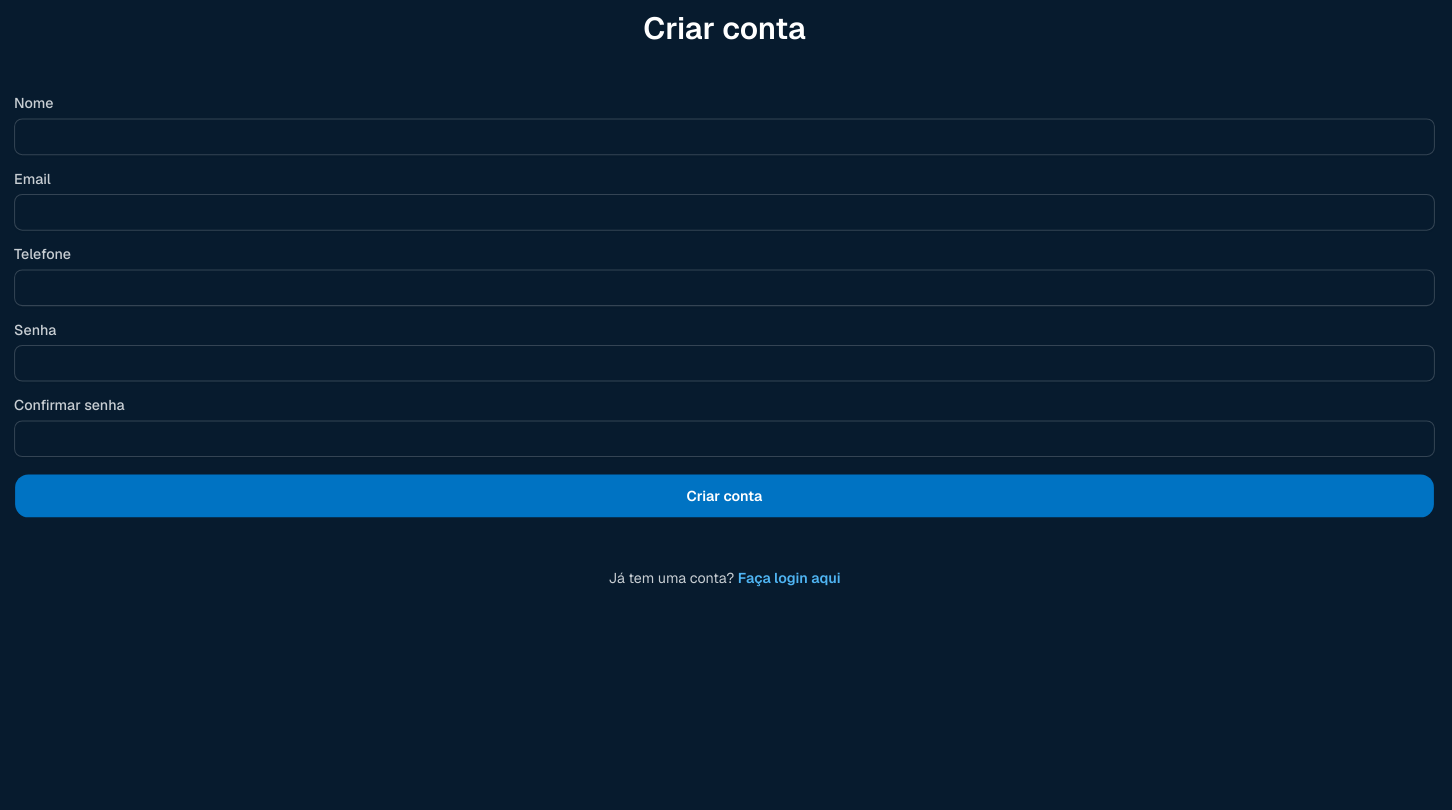
Test case: RegisterPageView › mostra erro quando as senhas são diferentes
This screenshot has width=1452, height=810.
Type "Maria" into the field labelled "Nome". click: (725, 137)
box: [14,118,1435,155]
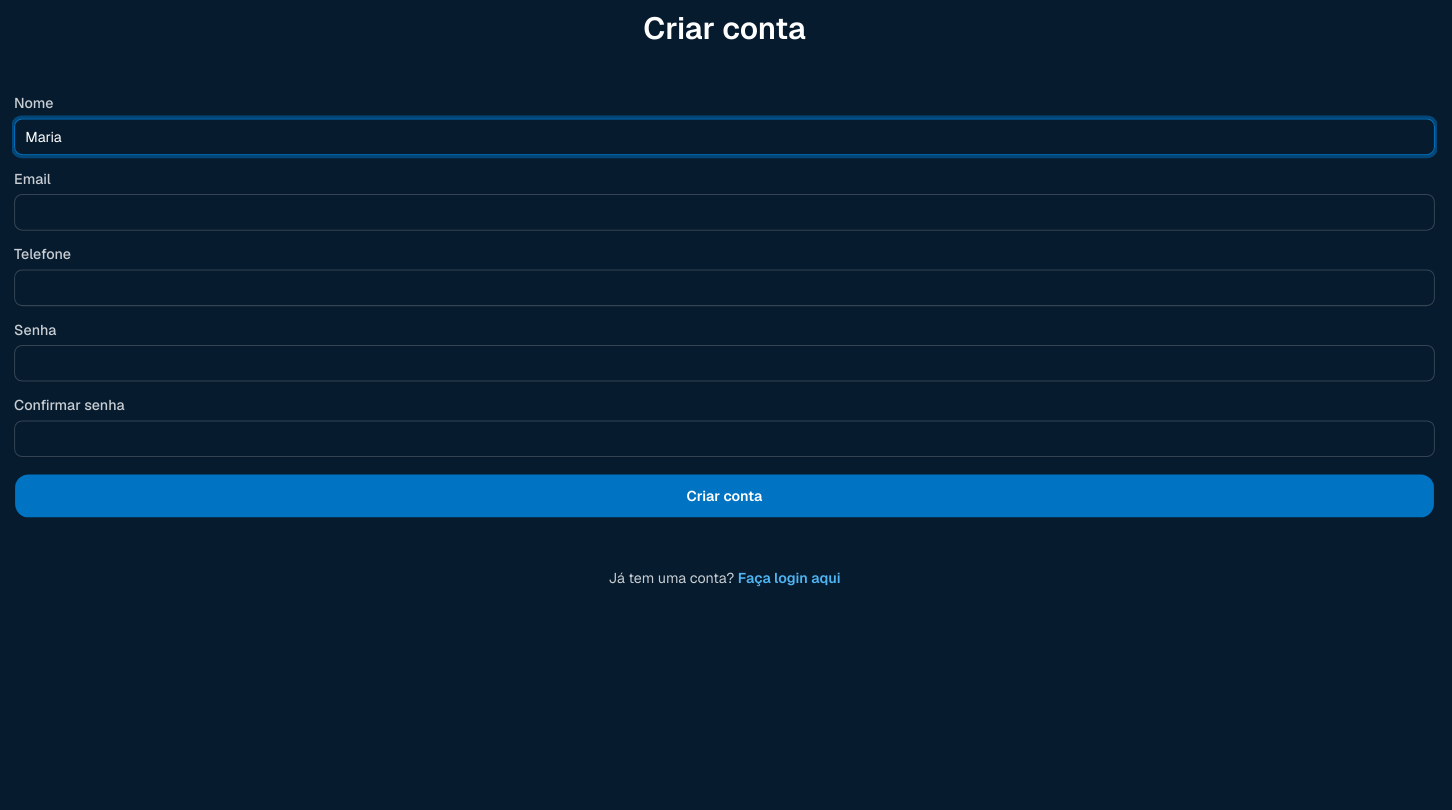
Type "maria@example.com" into the field labelled "Email". click: (725, 212)
box: [14,194,1435,231]
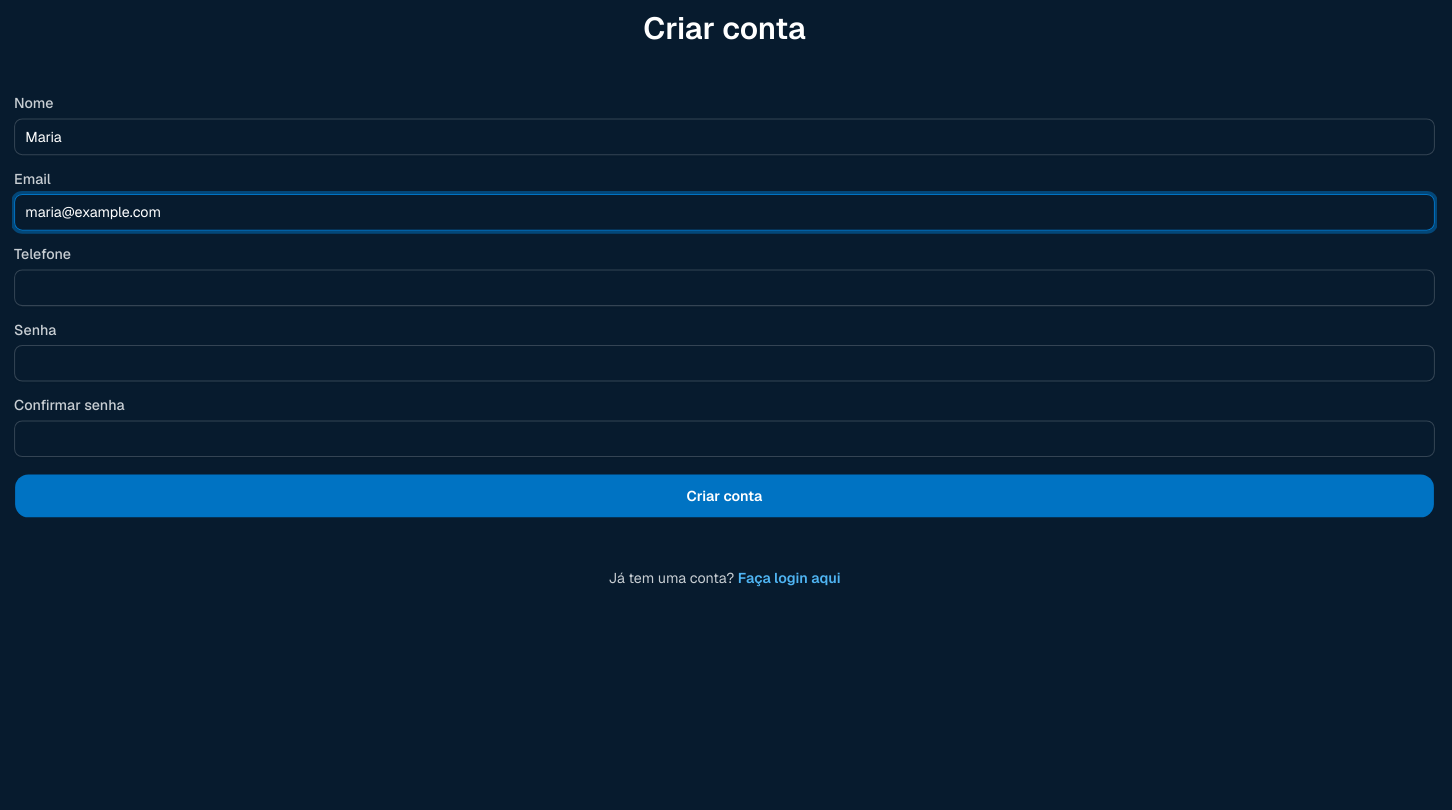
Type "11999999999" into the field labelled "Telefone". click: (725, 288)
box: [14,269,1435,306]
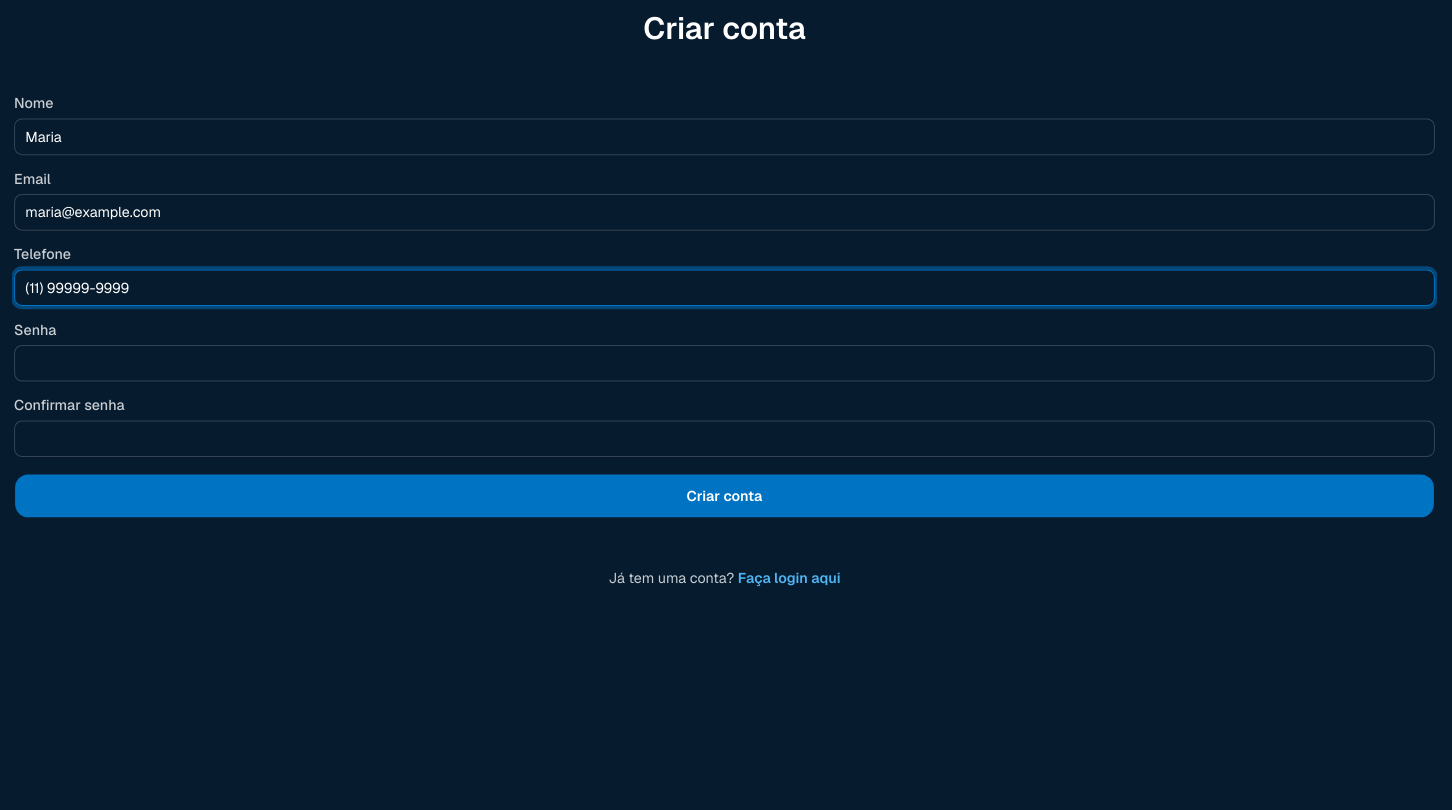
Type "password123" into the password field labelled "Senha". click: (725, 363)
box: [14,345,1435,382]
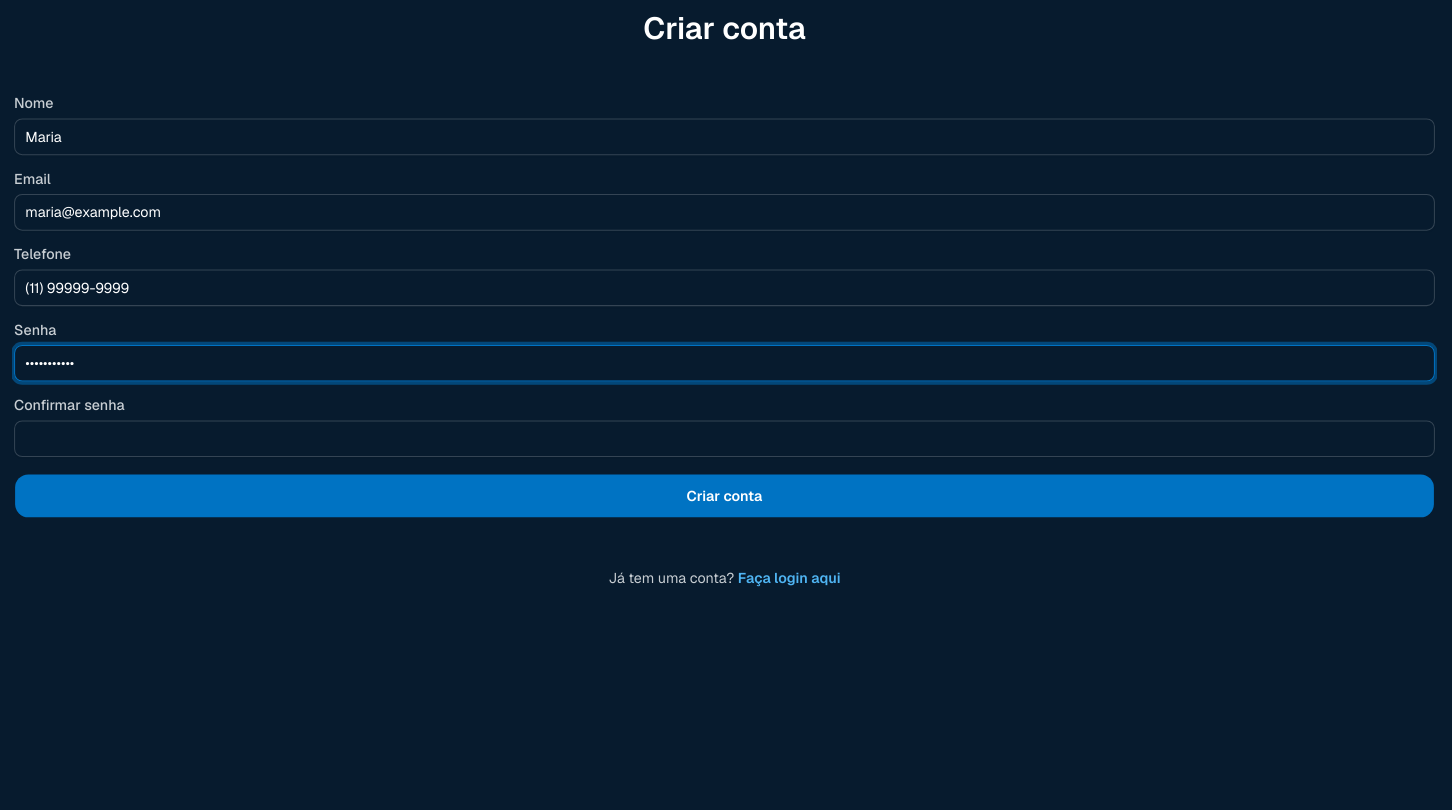
Type "password456" into the password field labelled "Confirmar senha". click: (725, 439)
box: [14,420,1435,457]
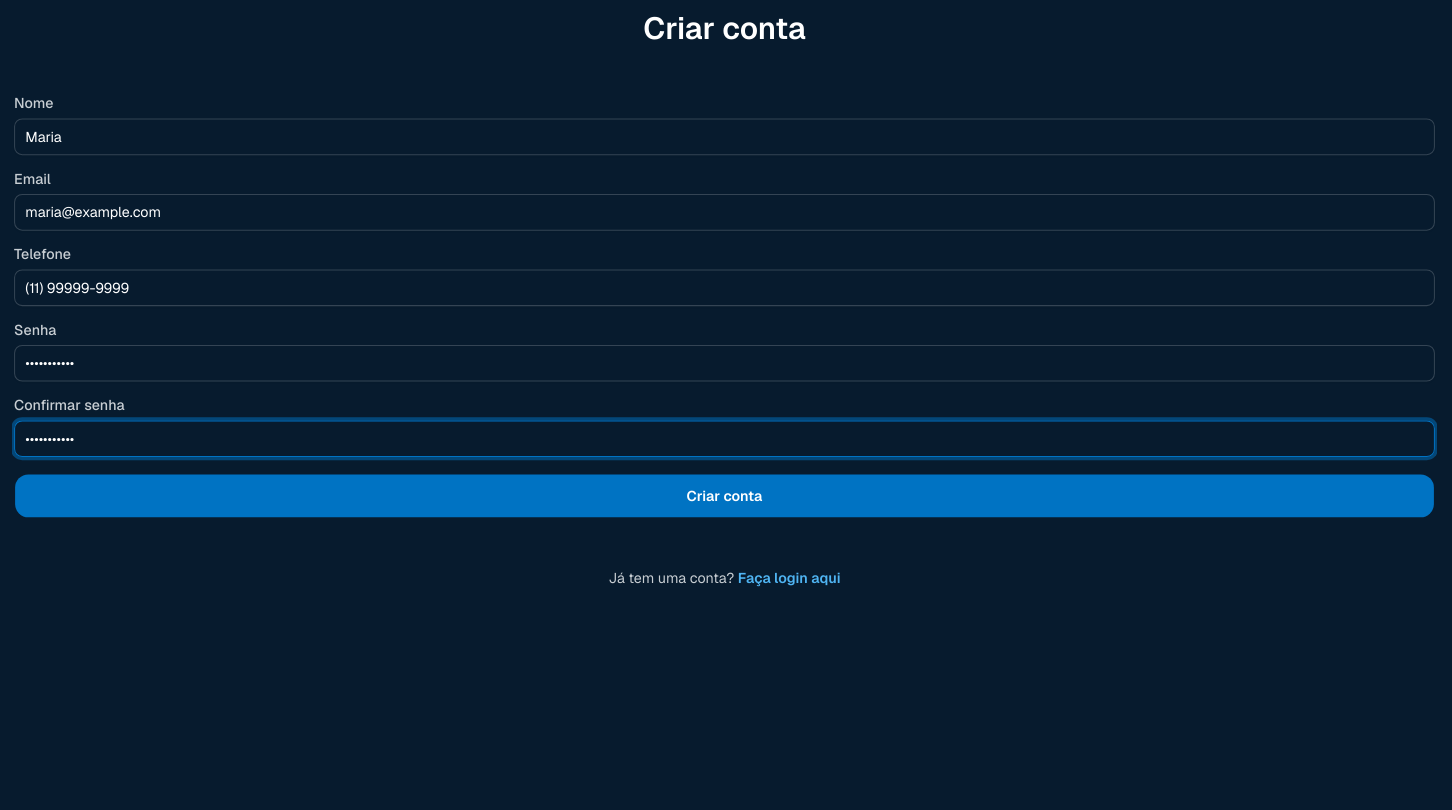
Click the button "Criar conta". click: (725, 496)
box: [14,473,1435,518]
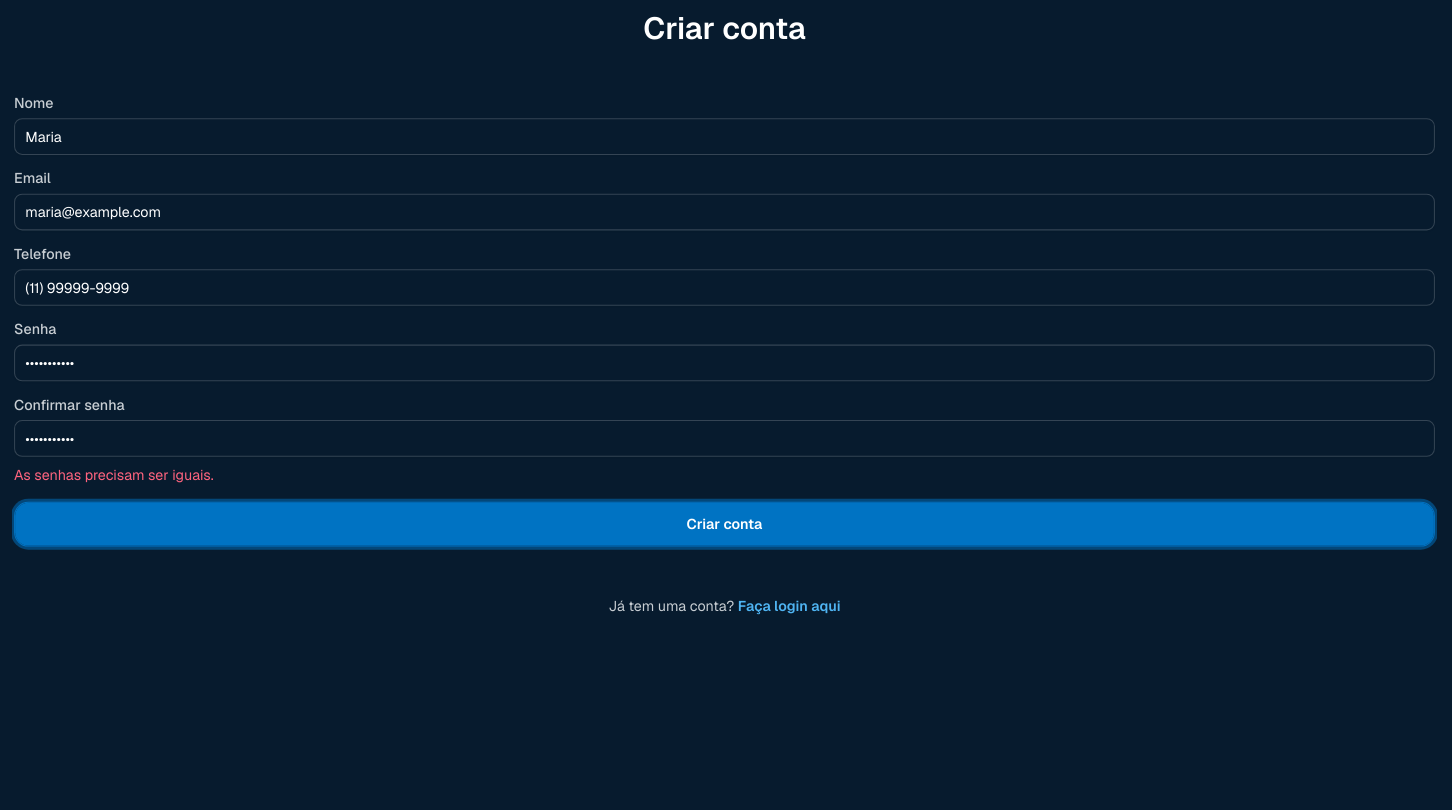
Check: the text "As senhas precisam ser iguais." is shown, box [14,466,214,484]
